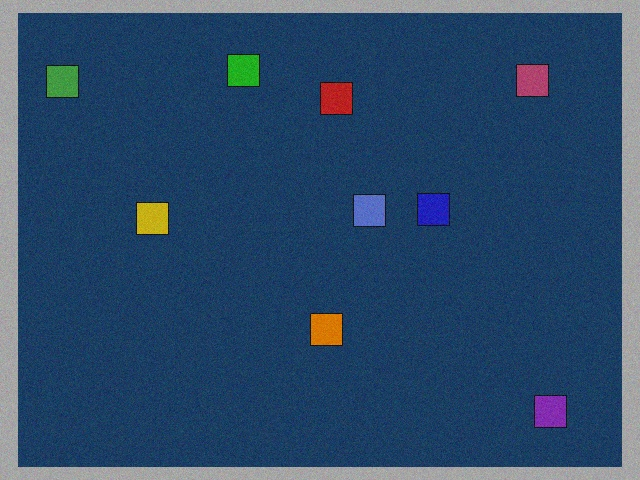block: (46, 65, 91, 105), (523, 387, 566, 428), (506, 65, 549, 104), (228, 55, 263, 95), (137, 203, 177, 235), (320, 82, 352, 121), (413, 194, 450, 227), (311, 310, 343, 346), (352, 195, 386, 227)
